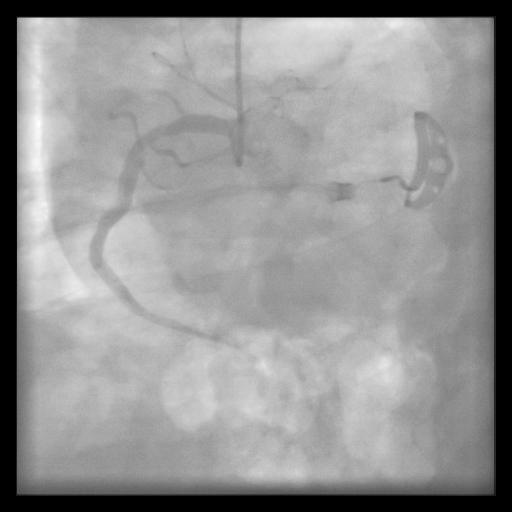Stenosis: (134, 122, 159, 153)
